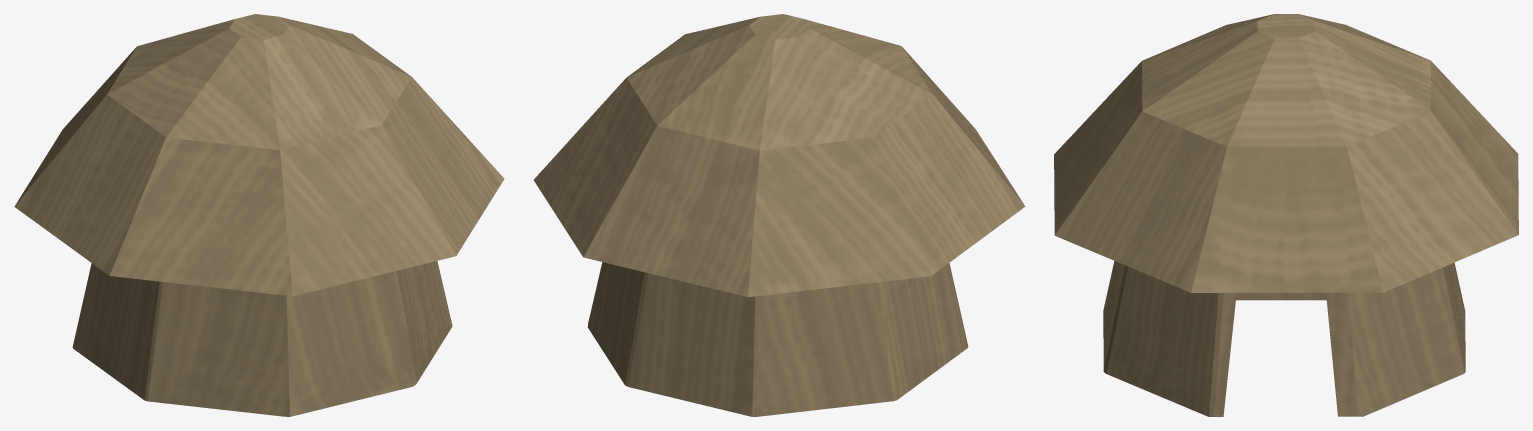
File: TexturedHut.glb
The picture shows the model from 3 angles, left to right: view 1: azimuth 30°, elevation 25°; view 2: azimuth 150°, elevation 25°; view 3: azimuth 270°, elevation 25°; orthographic projection.
Parts seen in each view (by area): view 1: Hut; view 2: Hut; view 3: Hut.
Boxes of the visible parts, x1,y1,x2,y2 form: Hut: (14, 14, 504, 416); Hut: (533, 14, 1025, 416); Hut: (1054, 14, 1518, 416).
Bounding box in the file's own units: 4.87 × 3.65 × 4.87.
Materials: 1 (1 with a texture image).
